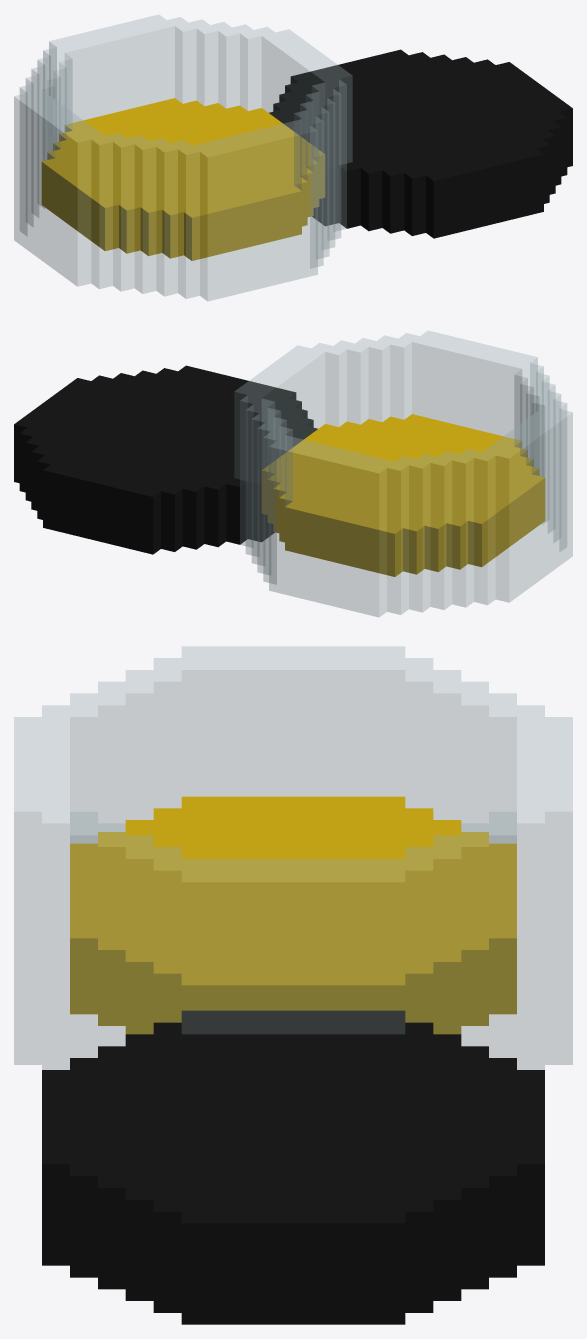
Rendered from hi_q_wax.glb.
3 renders of one model, top to bottom at view 1: azimuth 30°, elevation 25°; view 2: azimuth 150°, elevation 25°; view 3: azimuth 270°, elevation 25°, orthographic. The views are drawn at different scales.
Parts seen in each view (by area): view 1: hi_q_wax:compound; view 2: hi_q_wax:compound; view 3: hi_q_wax:compound.
Part boxes in pixels (x1,y1,x2,y2): hi_q_wax:compound: (14,14,572,301); hi_q_wax:compound: (14,330,572,617); hi_q_wax:compound: (14,646,572,1324).
Bounding box in the file's own units: 0.072 × 0.02 × 0.04.
